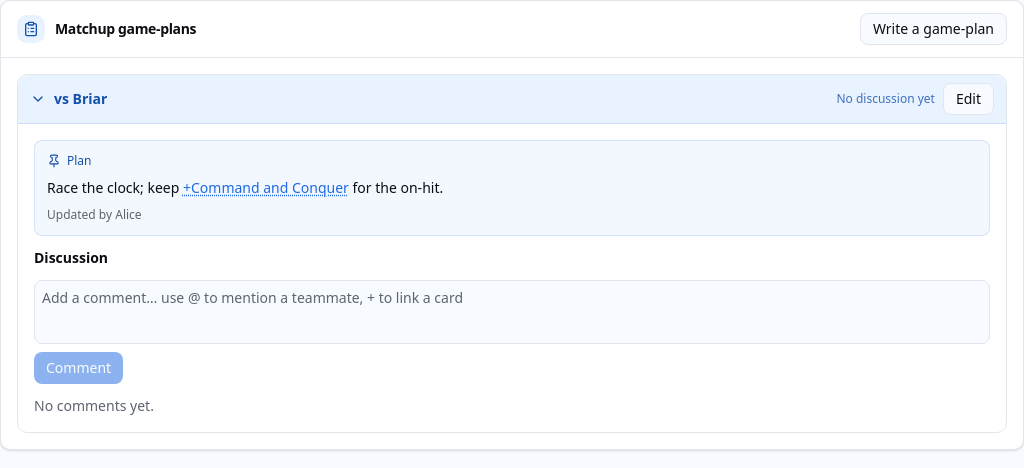
it: GamePlanSection › collapses a plan onto its matchup header, hiding the plan body and discussion
Check: the text "vs Briar" is shown, box [54,89,107,109]
Check: the heading "Discussion" is shown, box [34,248,108,267]
// The tinted matchup header doubles as the collapse toggle.
Click the button "vs Briar". click: (81, 98)
box: [30,89,828,109]
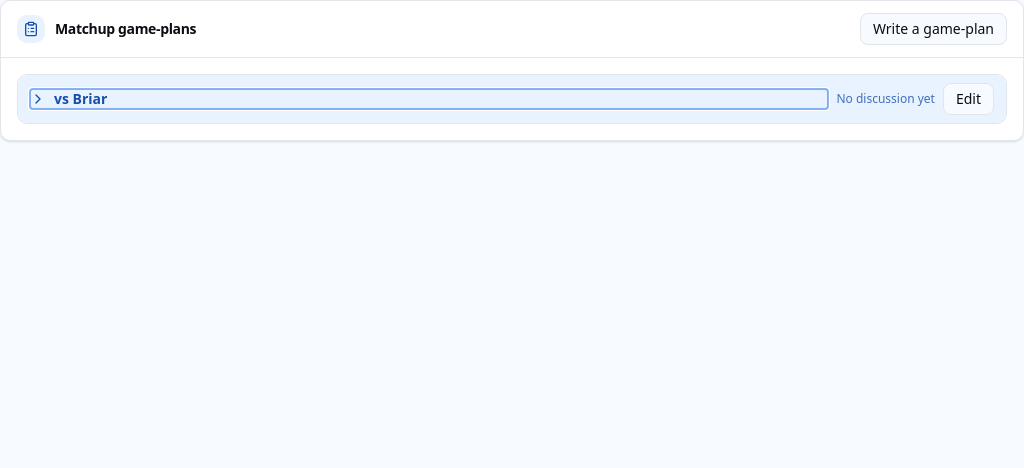
Check: the text "vs Briar" is shown, box [54,89,107,109]
Check: the text "Race the clock" is gone
